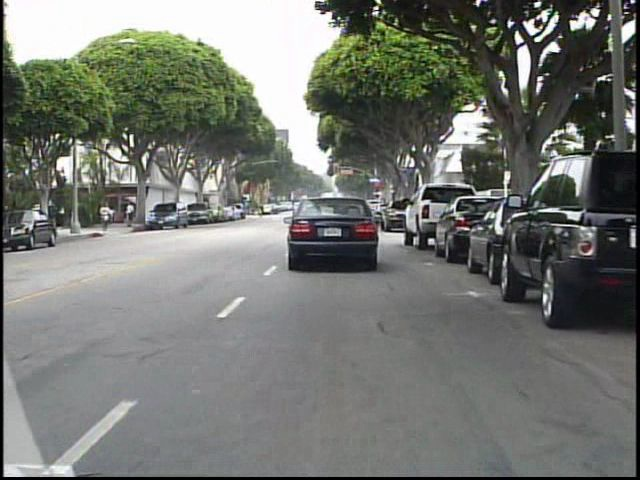person: (98, 199, 115, 237), (124, 198, 138, 231), (258, 200, 270, 221)
